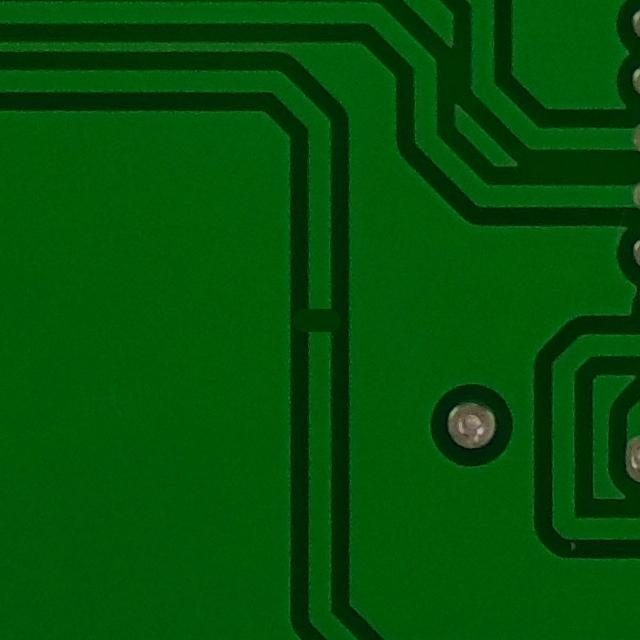open_circuit: (297, 294, 343, 346)
